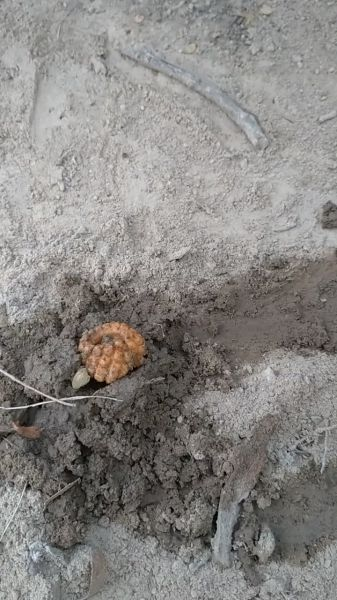eggs: (74, 319, 151, 383)
